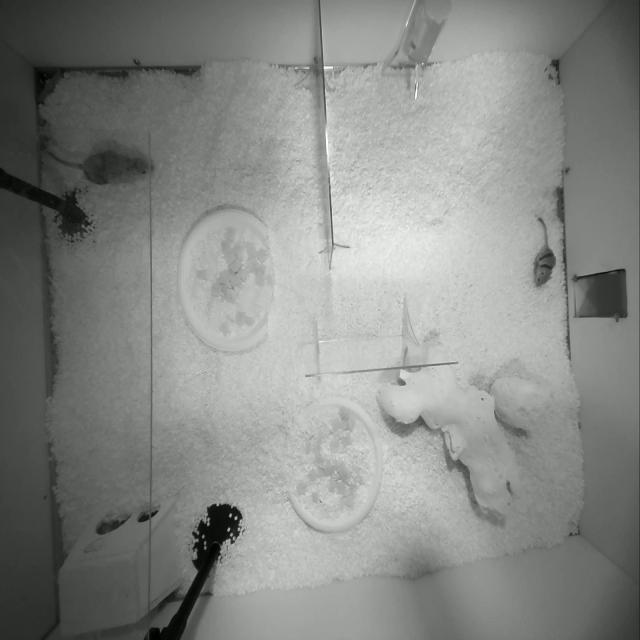adult_back: (44, 148, 152, 185)
pup_h_stripe: (534, 218, 556, 286)
